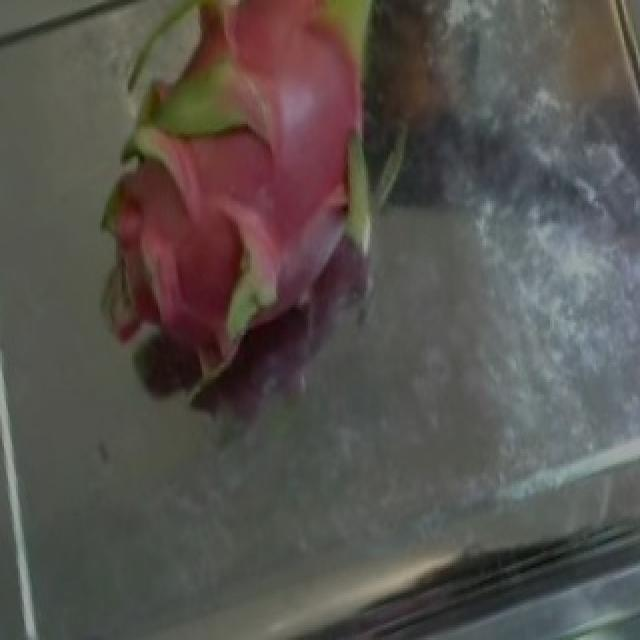fruit: (2, 3, 326, 429)
